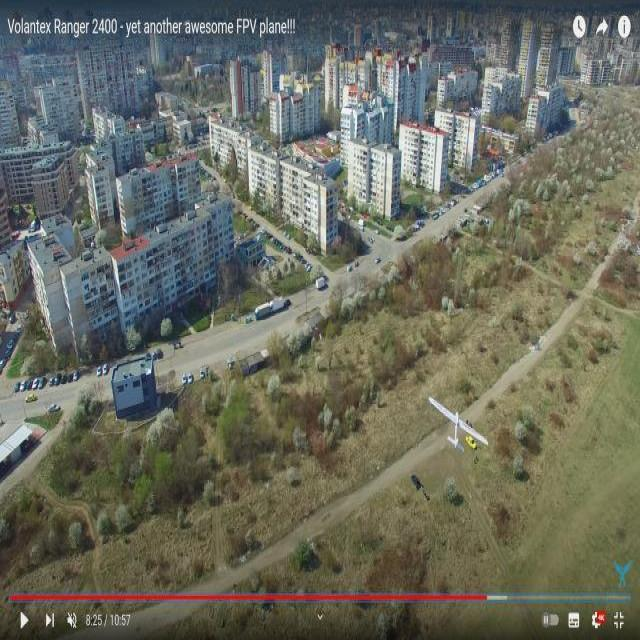iha: (443, 421, 460, 423)
